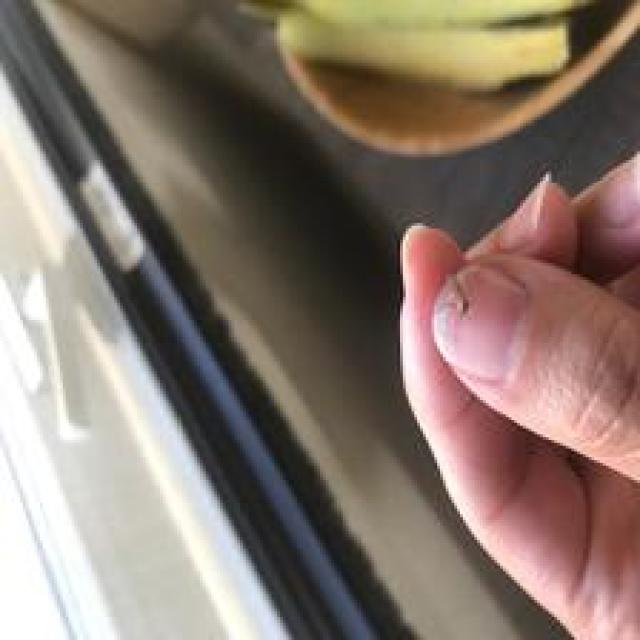Culex: (225, 0, 625, 94)
